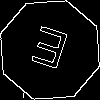E: (25, 25, 71, 79)
